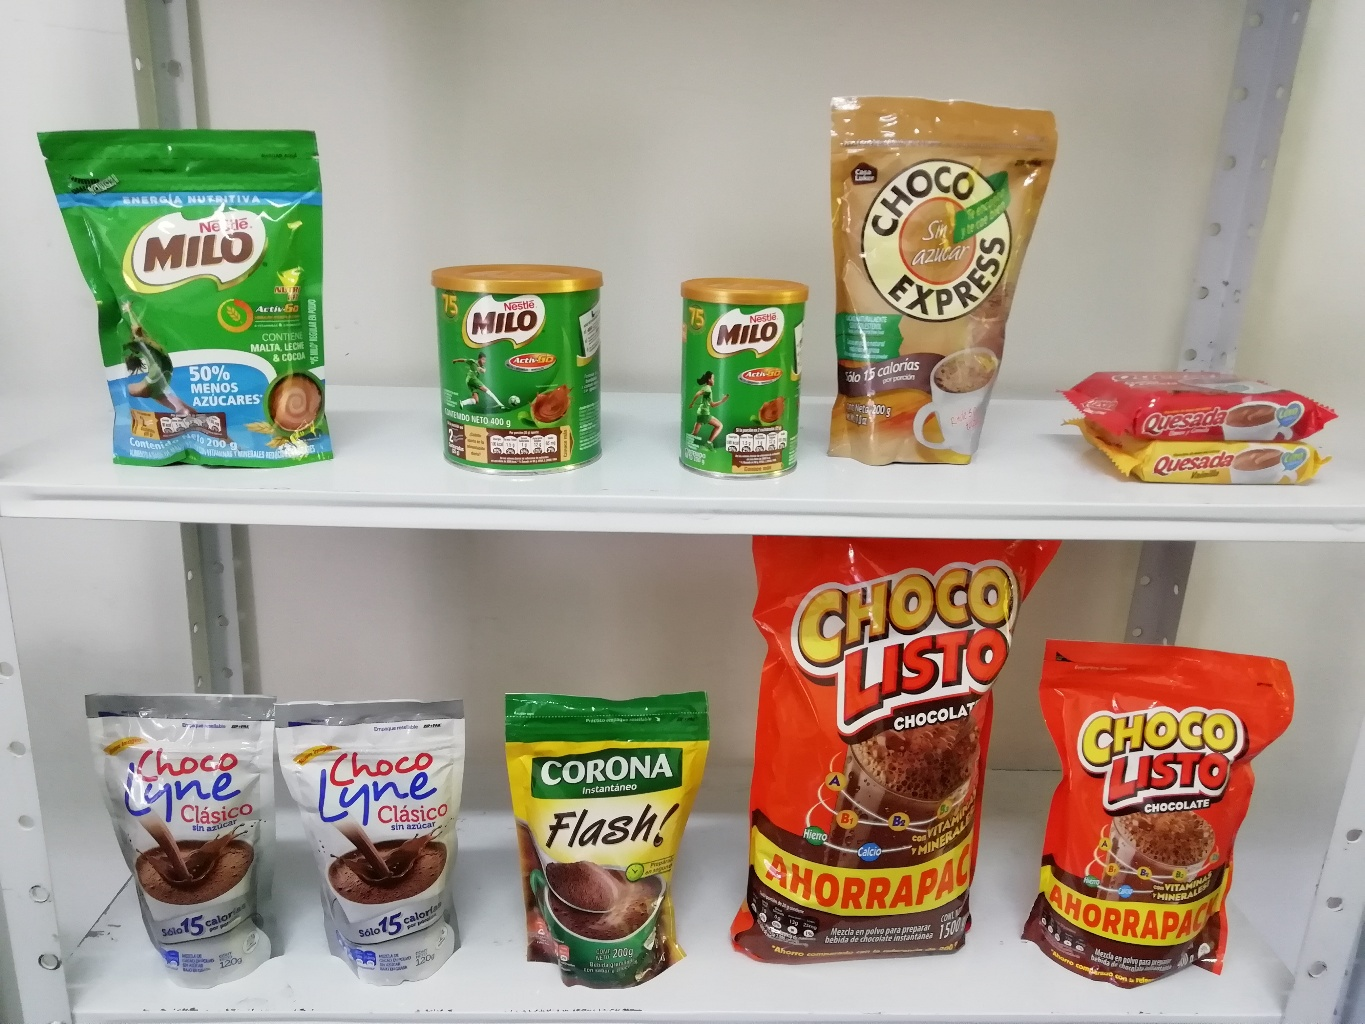COL0170103DYP1,500: (742, 531, 1049, 963)
COL0170103DYP36000: (1043, 630, 1292, 990)
COL0170203LAT20000: (683, 260, 808, 477)
COL0170203LAT40000: (428, 250, 616, 472)
COL0170205DYP20000: (24, 112, 338, 481)
